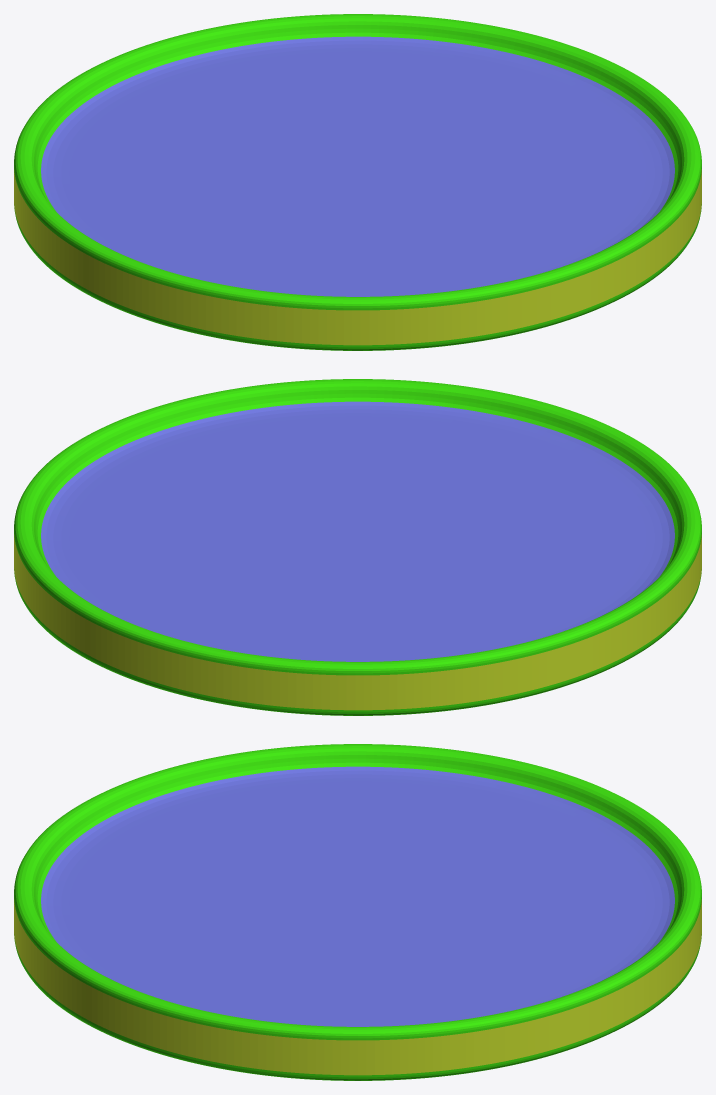
File: Coin_Model.fbx
3 views of the same model, one above another, from view 1: azimuth 30°, elevation 25°; view 2: azimuth 150°, elevation 25°; view 3: azimuth 270°, elevation 25° (orthographic).
Parts seen in each view (by area): view 1: Coin; view 2: Coin; view 3: Coin.
Boxes of the visible parts, bbox=[...] form: Coin: bbox=[14, 14, 701, 350]; Coin: bbox=[14, 379, 701, 715]; Coin: bbox=[14, 744, 701, 1080].
Bounding box in the file's own units: 59.9 × 4.9 × 59.9.
